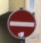No entry: (6, 5, 36, 38)
